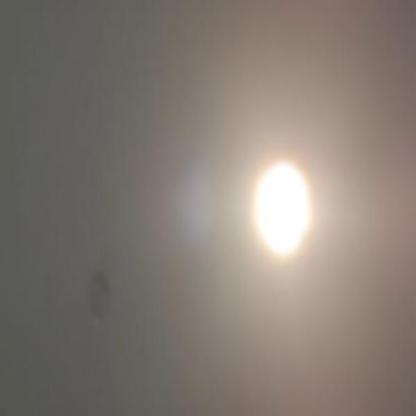light_on: (239, 115, 327, 277)
